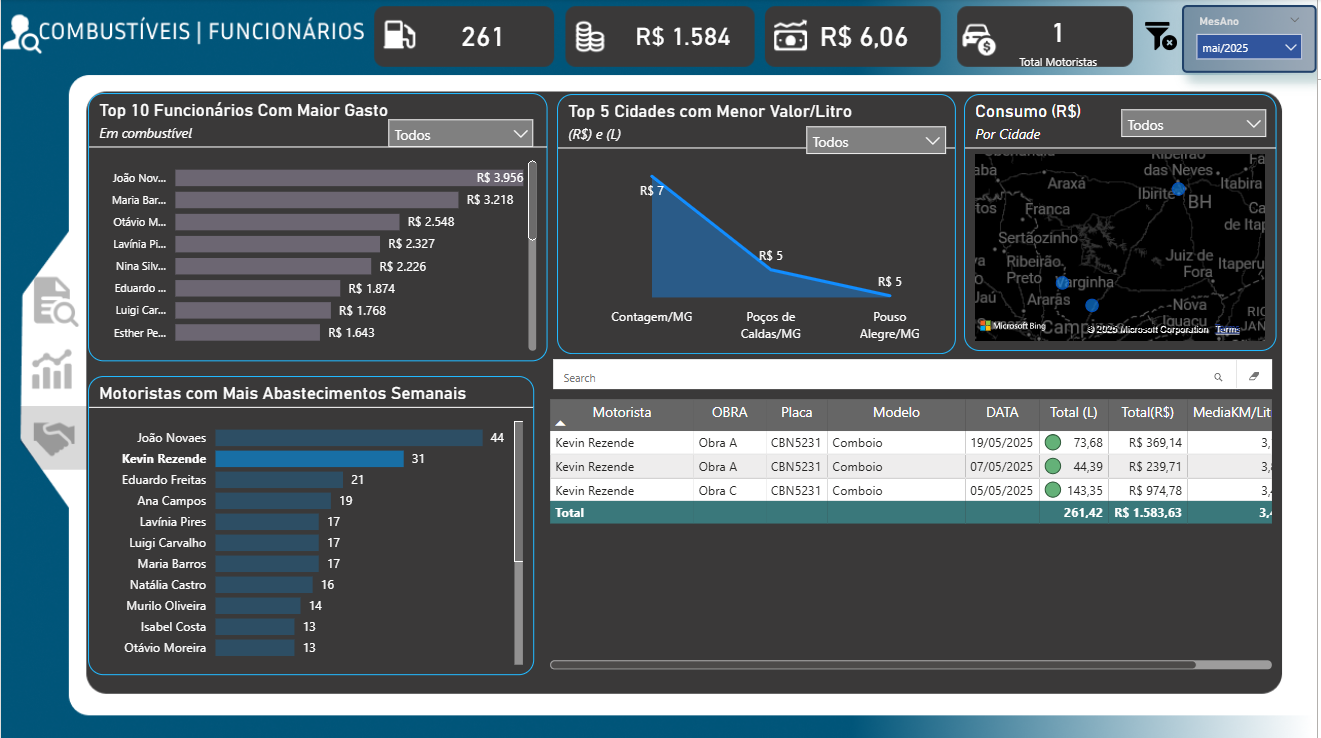

The dashboard page shown, as its layout file describes it:
{"tool":"powerbi","page":{"name":"Funcionarios","canvas":[1280,720],"ordinal":2},"visuals":[{"type":"card","fields":{"Values":["MEDIDAS.Total(R$)"]},"box":[583.9,6.1,159.8,58.8],"z":0},{"type":"card","fields":{"Values":["MEDIDAS.Total (L)"]},"box":[389,6.1,159.8,58.8],"z":1000},{"type":"card","fields":{"Values":["MEDIDAS.TickeMédio"]},"box":[759.5,6.1,159.8,58.8],"z":2000},{"type":"areaChart","title":"Top 5 Cidades com Menor Valor/Litro","fields":{"Category":["T_Log_2025.Cidade","CALENDARIO.MesAno"],"Y":["MEDIDAS.MediaValorPorLitro"]},"box":[540.8,92.4,388.1,252.9],"z":3000},{"type":"slicer","title":"MÉDIA PESSOAS ALOJADAS/DIA","fields":{"Values":["CALENDARIO.MesAno"]},"box":[1148.7,5.8,131.3,66.1],"z":4000},{"type":"tableEx","title":"Resumo","fields":{"Values":["T_Log_2025.Motorista","T_Log_2025.OBRA","T_Log_2025.Placa","T_Log_2025.Modelo","CALENDARIO.DATA","MEDIDAS.Total (L)","MEDIDAS.Total(R$)","MEDIDAS.MediaKM/Litro","T_Log_2025.Servico"]},"box":[527.7,384.6,713,273.1],"z":5000},{"type":"image","box":[1107.8,15.6,40.9,40.9],"z":6000},{"type":"actionButton","box":[25.3,275.3,52.5,38.9],"z":7000},{"type":"actionButton","box":[25.3,339.5,52.5,38.9],"z":8000},{"type":"card","fields":{"Values":["MEDIDAS.Motoristastotal"]},"box":[948.3,0,159.8,77.3],"z":9000},{"type":"clusteredBarChart","title":"Top 10 Funcionários Com Maior Gasto","fields":{"Category":["T_Log_2025.Motorista","T_Log_2025.OBRA"],"Y":["MEDIDAS.Total(R$)"]},"box":[84.6,91.4,447.4,260.7],"z":10000},{"type":"map","title":"Consumo (R$)","fields":{"Category":["T_Log_2025.Cidade"]},"box":[936.7,92.4,304.4,250],"z":11000},{"type":"slicer","fields":{"Values":["T_Log_2025.Servico"]},"box":[773.3,113.8,155.6,48.6],"z":12000},{"type":"slicer","fields":{"Values":["T_Log_2025.Cidade"]},"box":[1079.6,97.3,161.5,55.4],"z":13000},{"type":"barChart","title":"Motoristas com Mais Abastecimentos Semanais","fields":{"Category":["T_Log_2025.Motorista","T_Log_2025.Semana"],"Y":["MEDIDAS.QtdAbastecimentosFiltro"]},"box":[84.6,366.7,433.8,290.8],"z":14000},{"type":"actionButton","box":[25.5,403.9,52.7,38.6],"z":15000},{"type":"textFilter25A4896A83E0487089E2B90C9AE57C8A","fields":{"field":["T_Log_2025.Motorista"]},"box":[532,345.3,709.1,38.9],"z":16000},{"type":"slicer","fields":{"Values":["T_Log_2025.Motorista"]},"box":[366.7,107,161.5,58.4],"z":17000}]}

Visuals, with their boxes in screenshot pixels (x1, y1, x2, y2), scaled from the page's 1280x720 canvas onto the 1321x738 screenshot:
card - MEDIDAS.Total(R$): detection(603, 6, 768, 67)
card - MEDIDAS.Total (L): detection(401, 6, 566, 67)
card - MEDIDAS.TickeMédio: detection(784, 6, 949, 67)
"Top 5 Cidades com Menor Valor/Litro" areaChart: detection(558, 95, 959, 354)
"MÉDIA PESSOAS ALOJADAS/DIA" slicer: detection(1185, 6, 1320, 74)
"Resumo" tableEx: detection(545, 394, 1280, 674)
image: detection(1143, 16, 1185, 58)
actionButton: detection(26, 282, 80, 322)
actionButton: detection(26, 348, 80, 388)
card - MEDIDAS.Motoristastotal: detection(979, 0, 1144, 79)
"Top 10 Funcionários Com Maior Gasto" clusteredBarChart: detection(87, 94, 549, 361)
"Consumo (R$)" map: detection(967, 95, 1281, 351)
slicer - T_Log_2025.Servico: detection(798, 117, 959, 166)
slicer - T_Log_2025.Cidade: detection(1114, 100, 1281, 157)
"Motoristas com Mais Abastecimentos Semanais" barChart: detection(87, 376, 535, 674)
actionButton: detection(26, 414, 81, 454)
textFilter25A4896A83E0487089E2B90C9AE57C8A - T_Log_2025.Motorista: detection(549, 354, 1281, 394)
slicer - T_Log_2025.Motorista: detection(378, 110, 545, 170)
